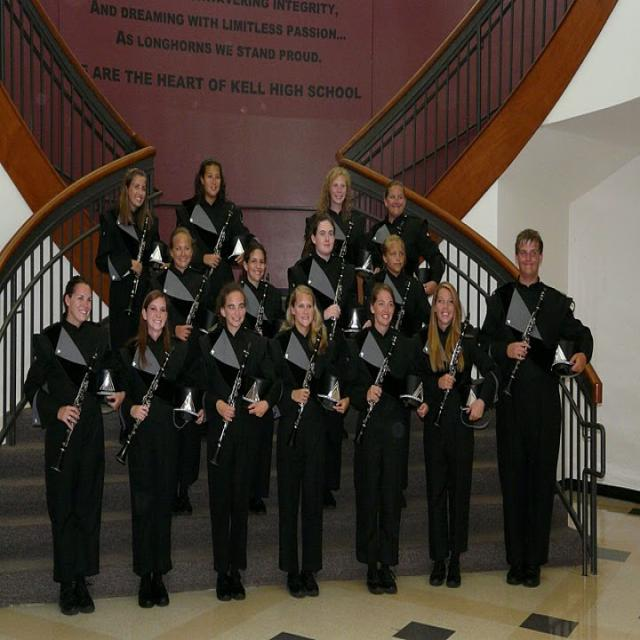clarinet: (114, 341, 178, 467), (48, 344, 102, 475), (208, 337, 252, 471), (353, 330, 401, 450), (502, 287, 548, 400), (286, 327, 323, 453), (433, 314, 470, 432), (122, 214, 150, 319), (184, 266, 210, 332), (328, 256, 347, 345), (210, 209, 234, 272), (255, 272, 271, 338), (393, 280, 411, 336), (334, 225, 352, 261), (393, 217, 408, 238)
